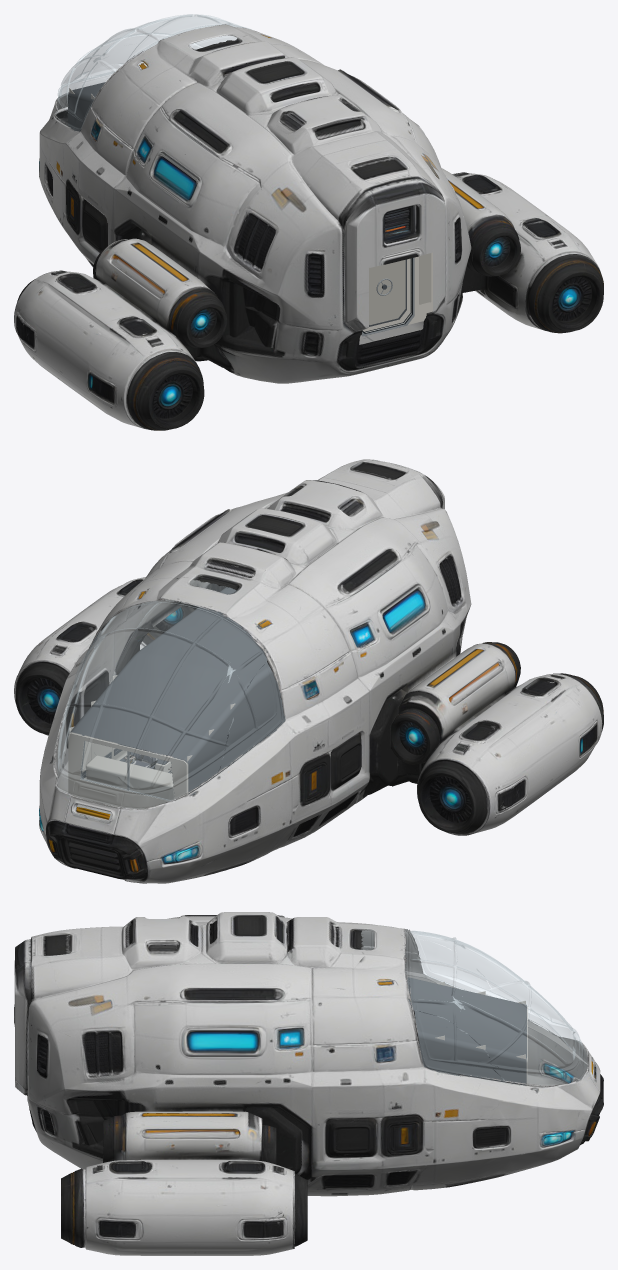
Rendered from 前挡玻璃-r2交点顺光-r10.glb.
3 renders of one model, top to bottom at view 1: azimuth 30°, elevation 25°; view 2: azimuth 150°, elevation 25°; view 3: azimuth 270°, elevation 25°, orthographic. The views are drawn at different scales.
Visible parts, largest first — view 1: Exterior_Hull_90_0, Canopy_Glass_91_0, airlock-outer-door_9, Door_Outer-bulkhead_0, cockpit-wall-left_1, Door_Outer-bulkhead_9; view 2: Exterior_Hull_90_0, Canopy_Glass_91_0, cockpit-ceiling_1, rear-cabin-ceiling_1, front-window-frame_0, cockpit-wall-left_1, main-console_0, rear-cabin-wall-left_1; view 3: Exterior_Hull_90_0, Canopy_Glass_91_0, cockpit-ceiling_1, cockpit-wall-right_1.
Part boxes in pixels (x1,y1,x2,y2): Exterior_Hull_90_0: (14, 24, 603, 430); Canopy_Glass_91_0: (55, 14, 253, 118); airlock-outer-door_9: (369, 260, 405, 325); Door_Outer-bulkhead_0: (360, 252, 432, 336); cockpit-wall-left_1: (68, 93, 93, 131); Door_Outer-bulkhead_9: (419, 253, 431, 304); Exterior_Hull_90_0: (14, 459, 603, 883); Canopy_Glass_91_0: (51, 580, 266, 822); cockpit-ceiling_1: (70, 654, 251, 761); rear-cabin-ceiling_1: (135, 587, 271, 683); front-window-frame_0: (68, 733, 187, 809); cockpit-wall-left_1: (187, 684, 253, 795); main-console_0: (86, 755, 174, 800); rear-cabin-wall-left_1: (252, 669, 285, 747); Exterior_Hull_90_0: (14, 912, 603, 1255); Canopy_Glass_91_0: (361, 929, 596, 1091); cockpit-ceiling_1: (405, 977, 526, 1058); cockpit-wall-right_1: (418, 1033, 526, 1085).
Bounding box in the file's own units: 14.46 × 6.95 × 16.
Materials: 47 (14 with a texture image).
